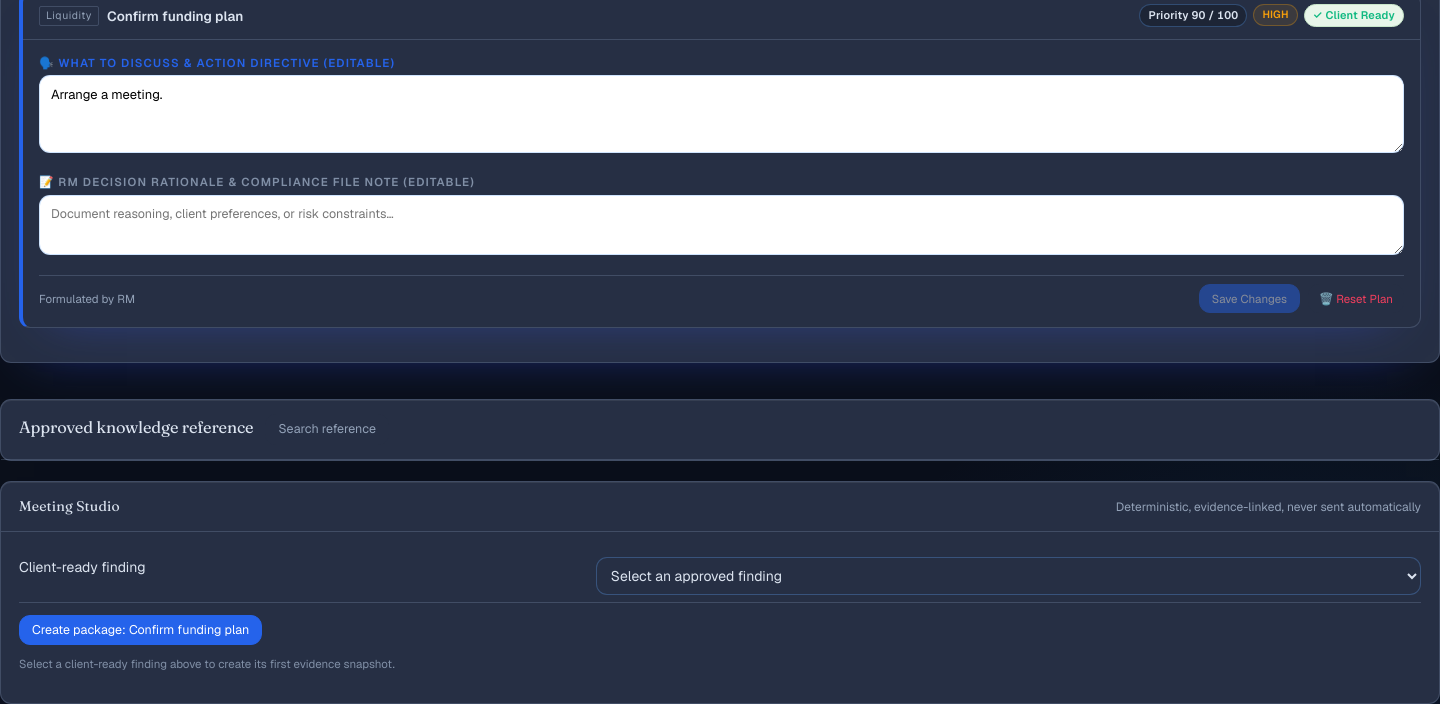
MeetingStudio › creates, preflights, copies, and records a simulated hand-off
(page scrolled)
Click the button "Create package: Confirm funding plan" at (141,630), box [19, 615, 262, 645]
(page scrolled)
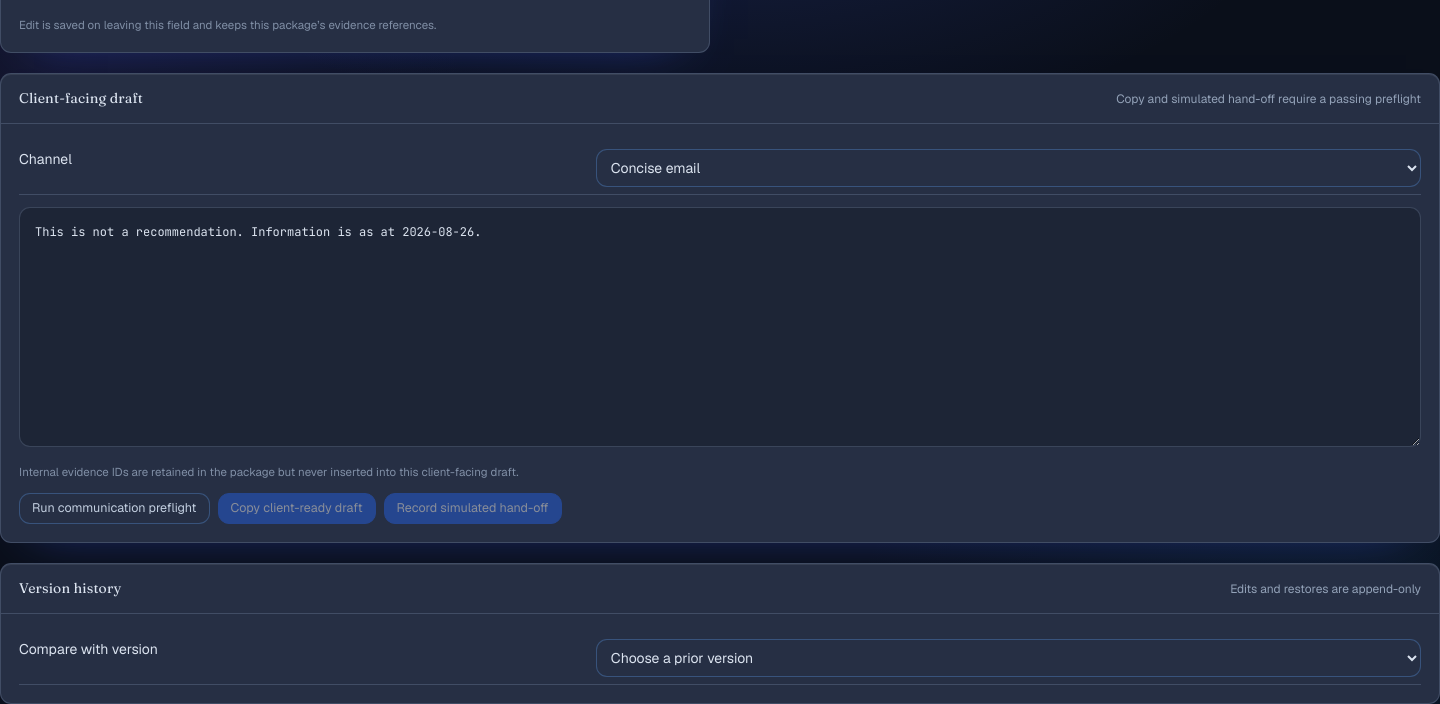
Click the button "Run communication preflight" at (114,508), box [19, 493, 210, 524]
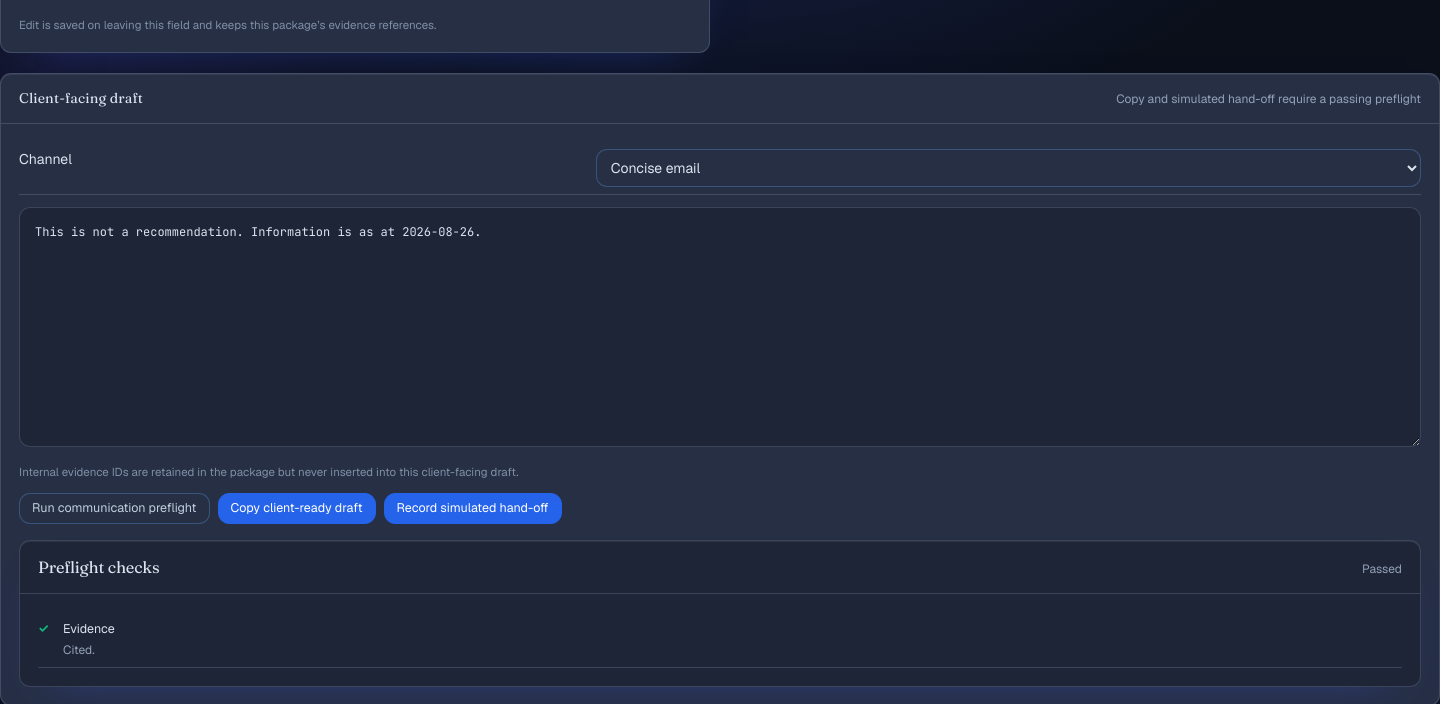
Now the button "Copy client-ready draft" is enabled
Click the button "Copy client-ready draft" at (297,508), box [218, 493, 376, 524]
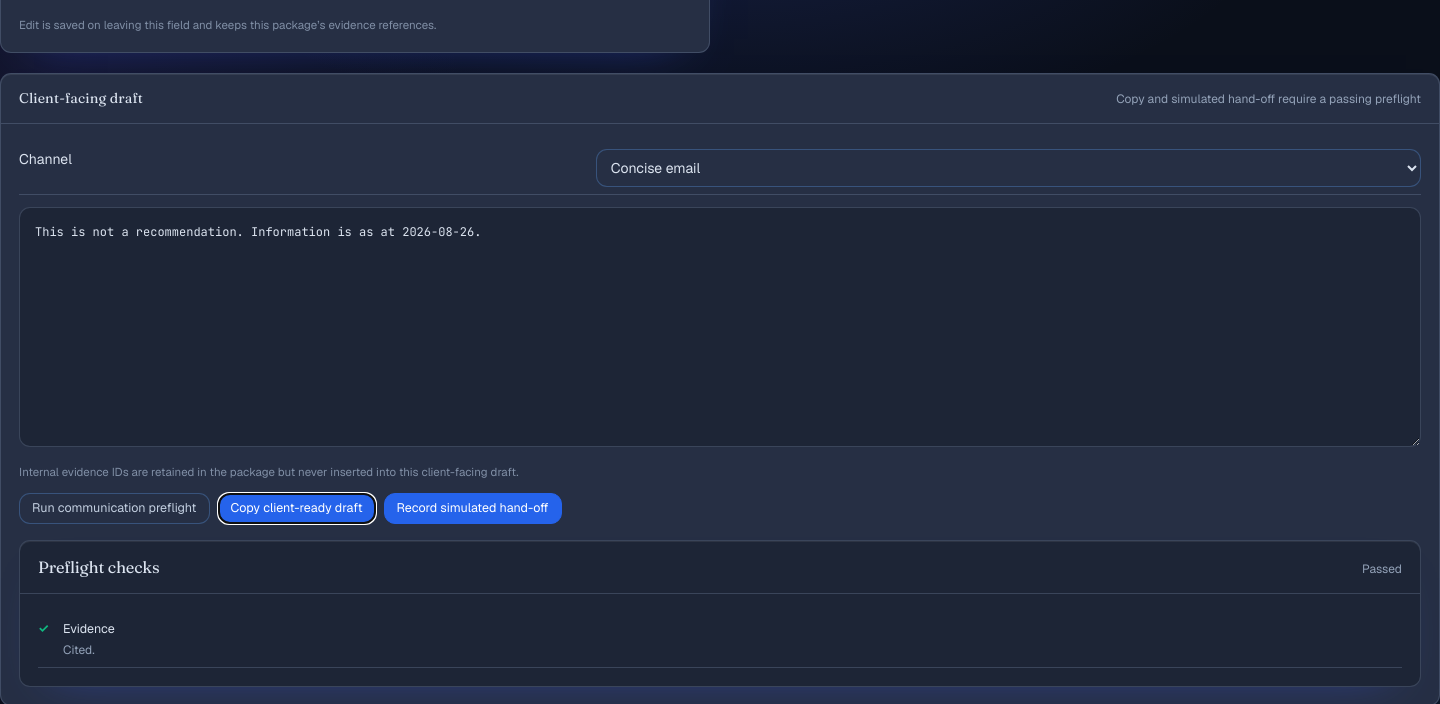
Click the button "Record simulated hand-off" at (473,508), box [384, 493, 562, 524]
(page scrolled)
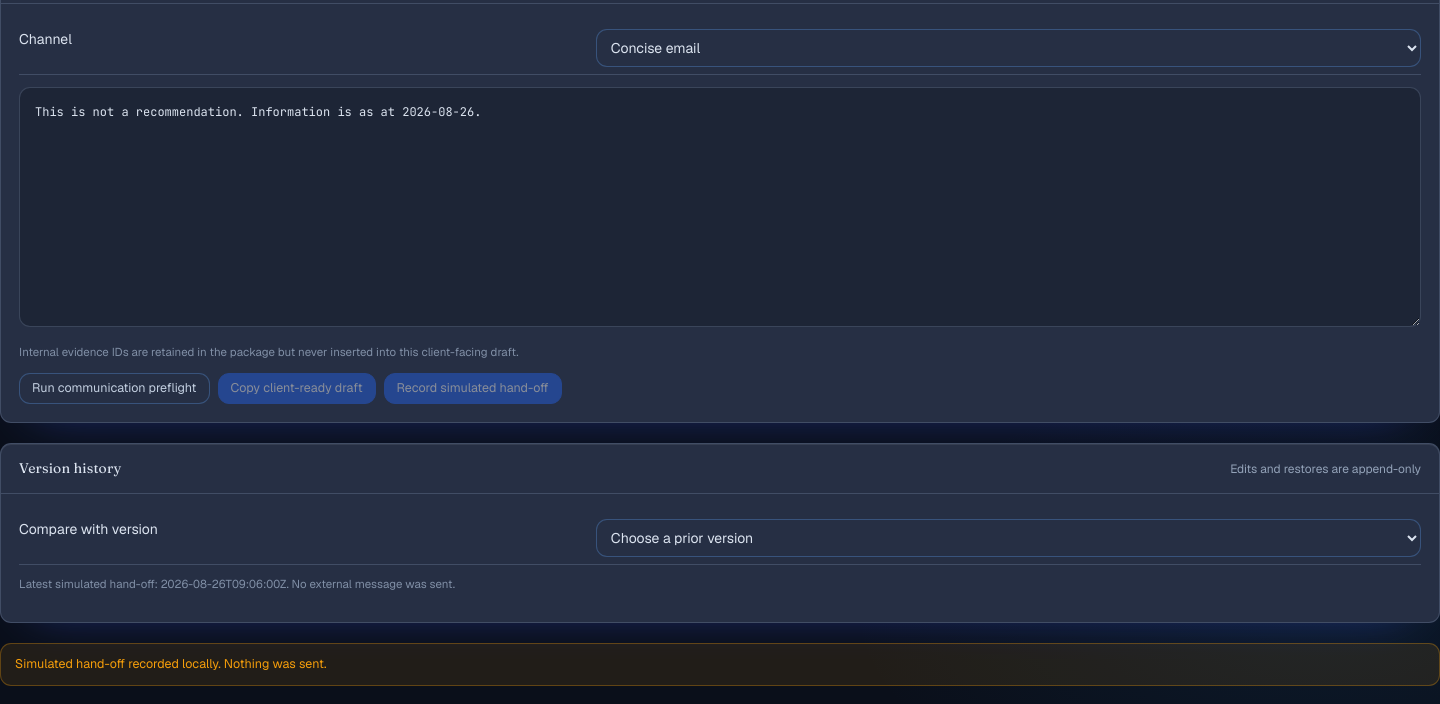
Now the text "Simulated hand-off recorded locally. Nothing was sent." is shown, box [0, 643, 1439, 686]
